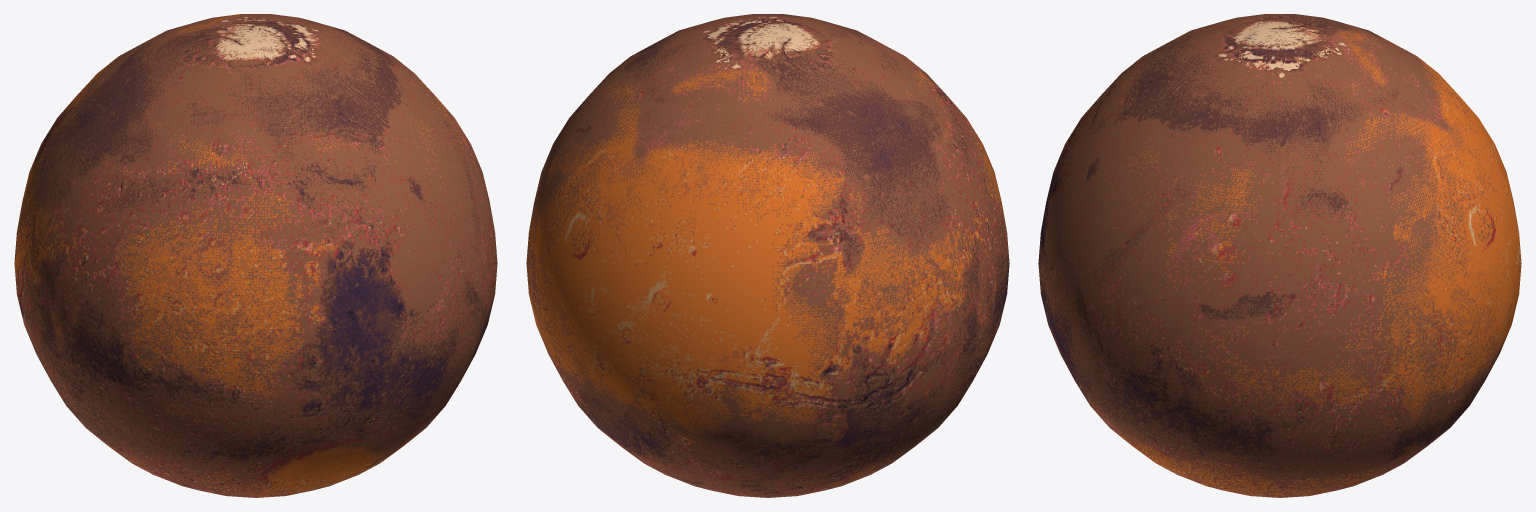
Rendered from mars.fbx.
3 renders of one model, left to right at view 1: azimuth 30°, elevation 25°; view 2: azimuth 150°, elevation 25°; view 3: azimuth 270°, elevation 25°, orthographic.
Parts seen in each view (by area): view 1: pSphere4; view 2: pSphere4; view 3: pSphere4.
Boxes of the visible parts, <box> form: pSphere4: <box>14,14,497,497</box>; pSphere4: <box>526,14,1009,497</box>; pSphere4: <box>1038,14,1521,497</box>.
Bounding box in the file's own units: 117 × 117 × 117.
1 material, 1 textured.
